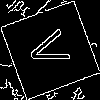V: (25, 25, 80, 72)
